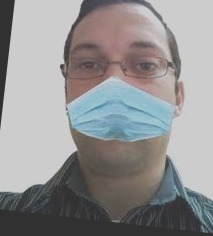mask_weared_incorrect: (63, 1, 177, 169)
